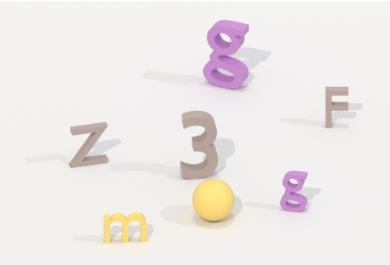0-Tron: (190, 177, 237, 227)
3: (176, 108, 220, 183)
F: (322, 82, 352, 133)
Z: (65, 117, 111, 172)
g: (199, 17, 251, 94), (277, 168, 311, 216)
m: (99, 206, 152, 247)
